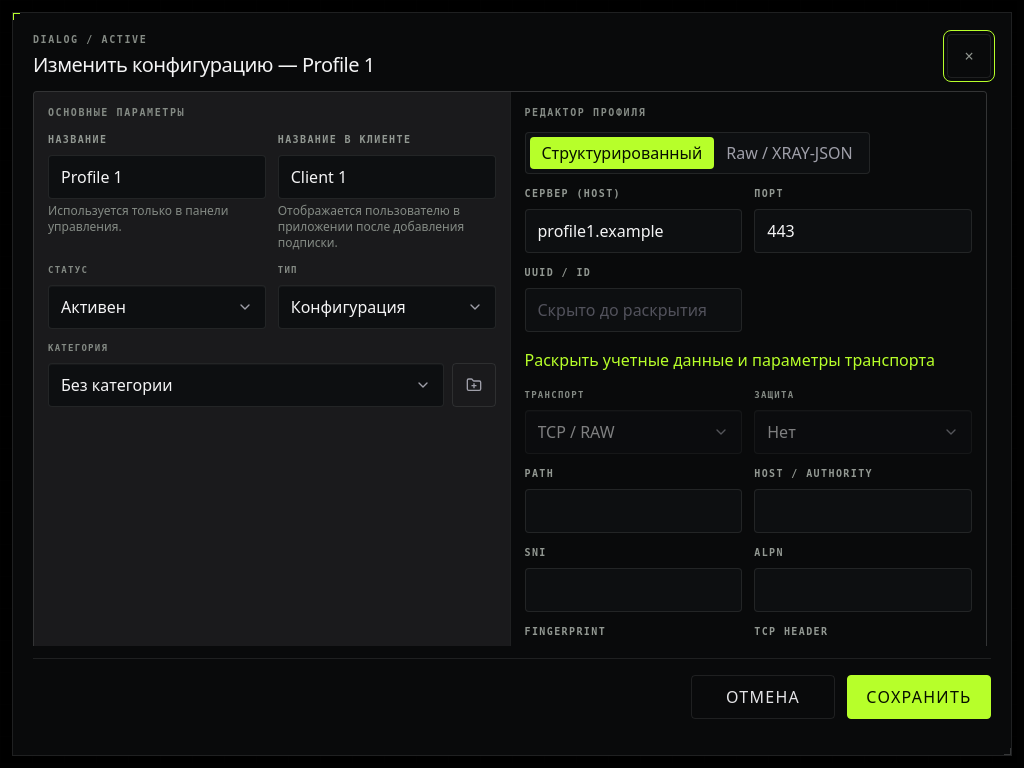
Test: editor request failure and dialog contracts › retains the draft when update fails: save network failed
Replace the text in the field labelled "Название" with "Changed label" at (157, 177), box [48,155,266,199]
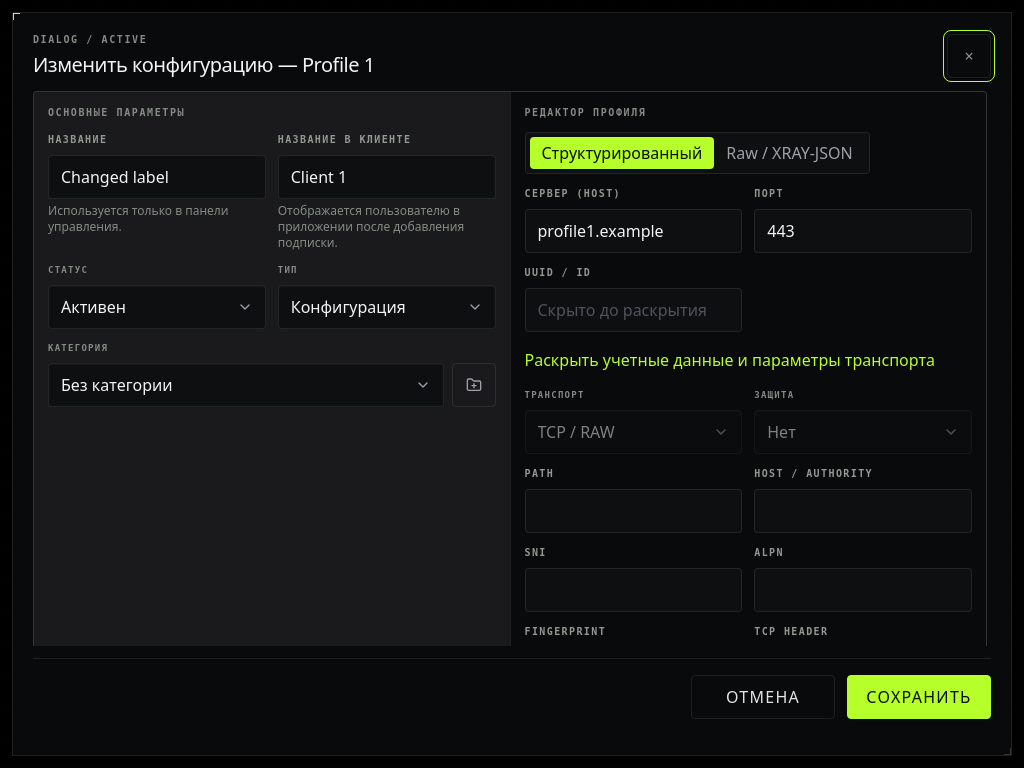
Click the button "Сохранить".
click(919, 697)  # box [847,675,991,719]
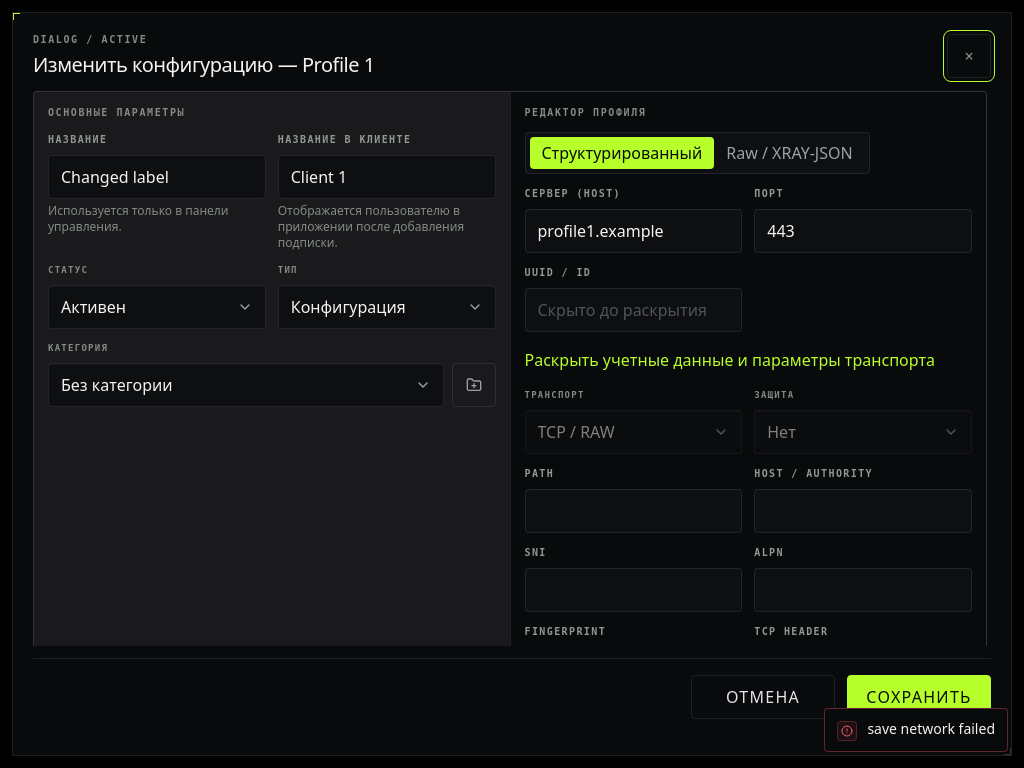
Check: the text "save network failed" is shown, box [867,719,995,739]
